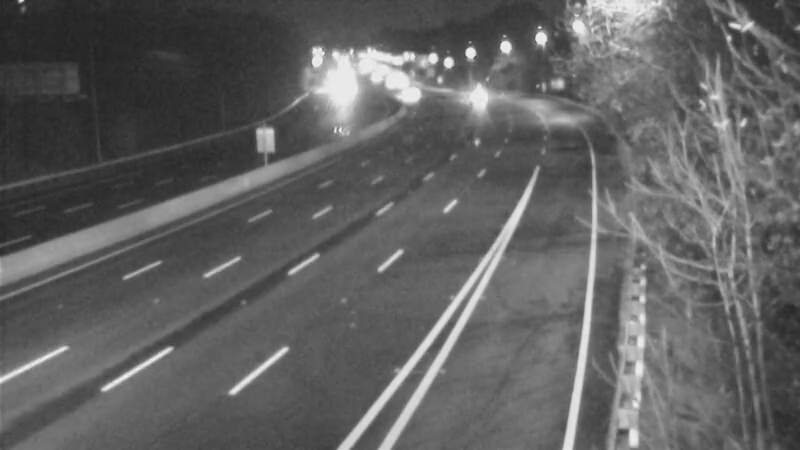vehicle: (388, 67, 438, 117), (447, 69, 497, 119)
